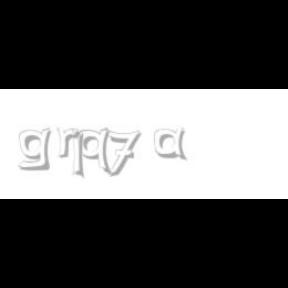7: (104, 128, 142, 178)
I: (73, 128, 86, 180)
a: (154, 128, 192, 160)
g: (18, 128, 55, 171)
q: (77, 128, 113, 176)
r: (56, 128, 84, 158)
